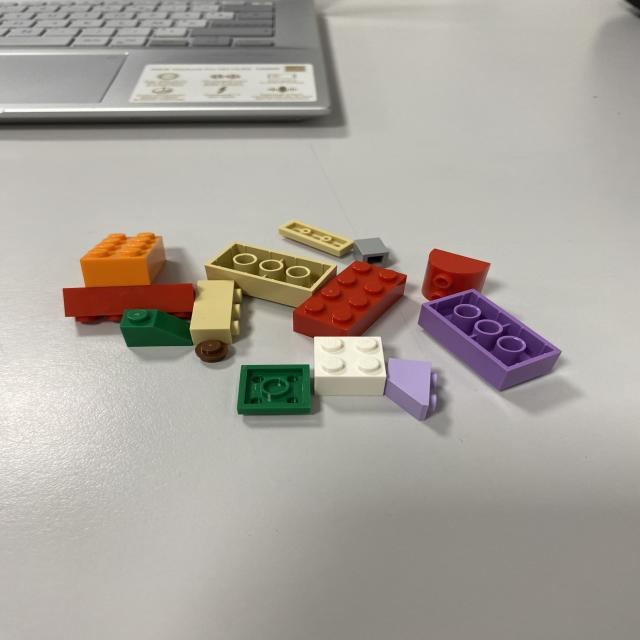C4x2x1: (417, 292, 561, 391), (299, 260, 407, 331), (83, 235, 159, 288), (498, 355, 559, 393)
